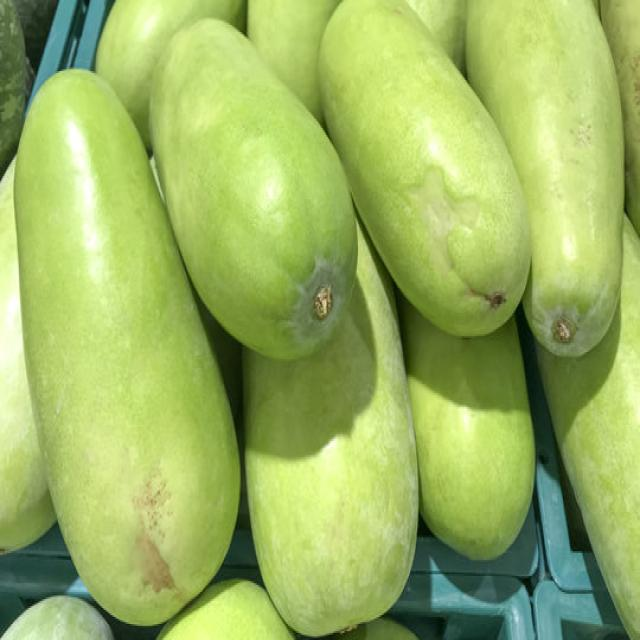Bottle Gourd: (20, 74, 199, 592), (315, 0, 531, 338), (147, 14, 358, 359), (247, 342, 412, 616), (405, 333, 552, 547)
Spinach: (0, 0, 638, 638)
